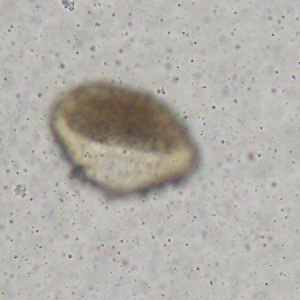Fasciola_hepatica_egg: (48, 79, 200, 197)
